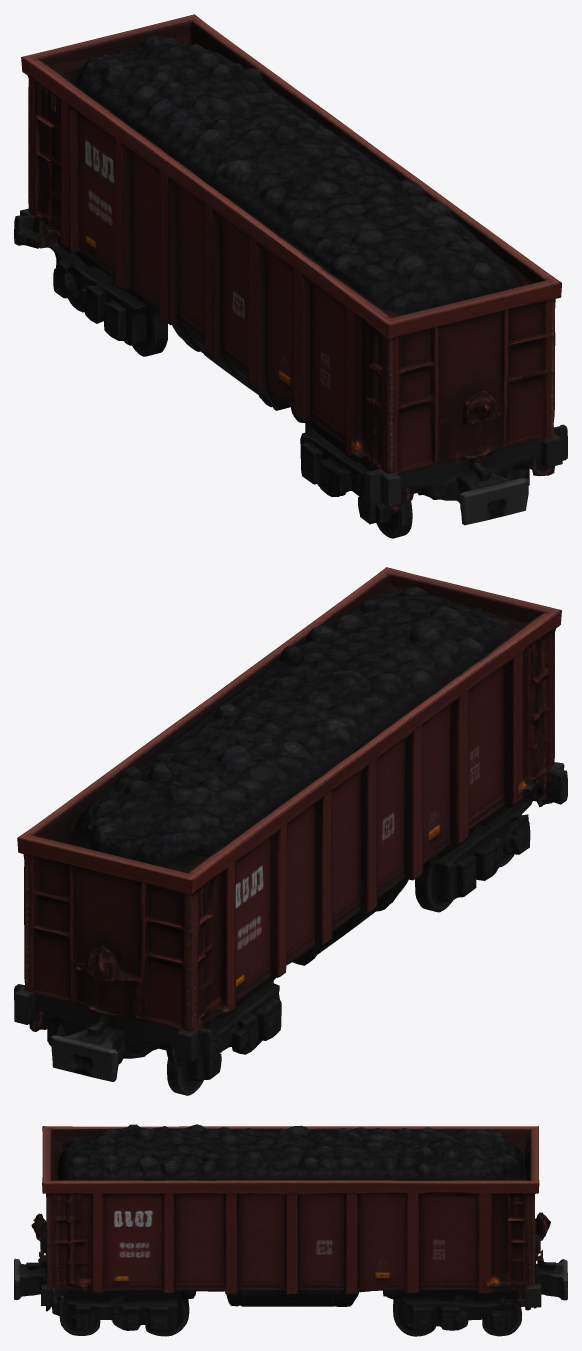
File: freight_car2.glb
3 renders of one model, top to bottom at view 1: azimuth 30°, elevation 25°; view 2: azimuth 150°, elevation 25°; view 3: azimuth 270°, elevation 25°, orthographic. The views are drawn at different scales.
Parts seen in each view (by area): view 1: geometry_0.010; view 2: geometry_0.010; view 3: geometry_0.010.
Part boxes in pixels (<box>): geometry_0.010: <box>14,14,567,538</box>; geometry_0.010: <box>14,567,567,1095</box>; geometry_0.010: <box>14,1124,567,1336</box>.
Bounding box in the file's own units: 0.2917 × 0.3555 × 1.
Materials: 1 (1 with a texture image).
